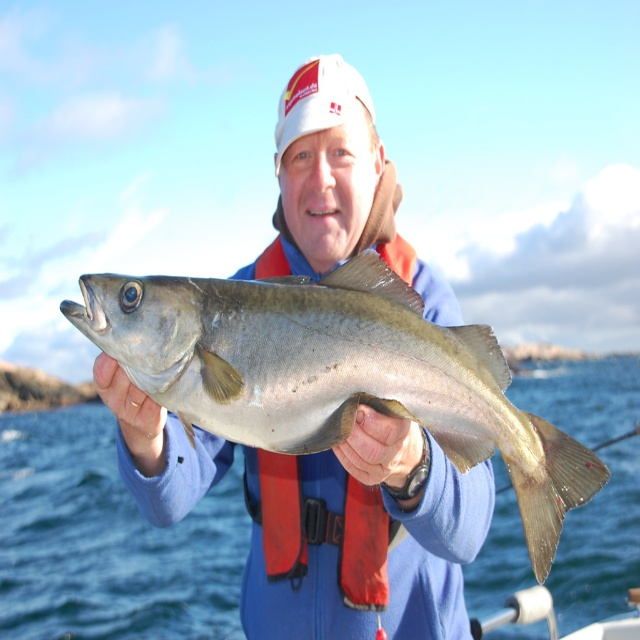Fish: (61, 246, 612, 581)
